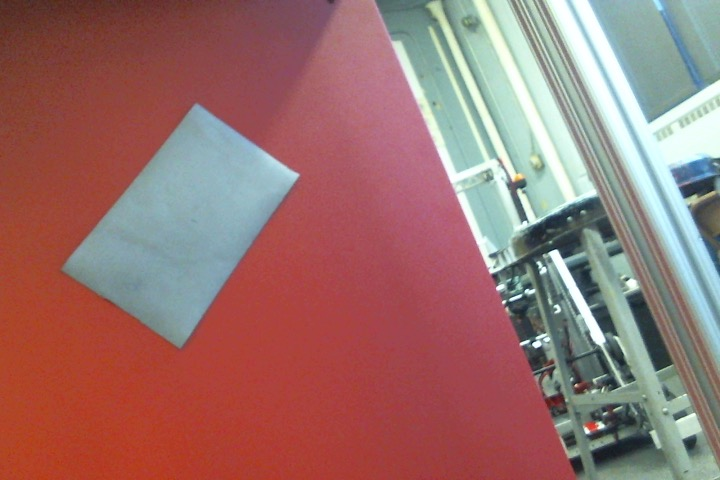Tape: (60, 103, 300, 349)
